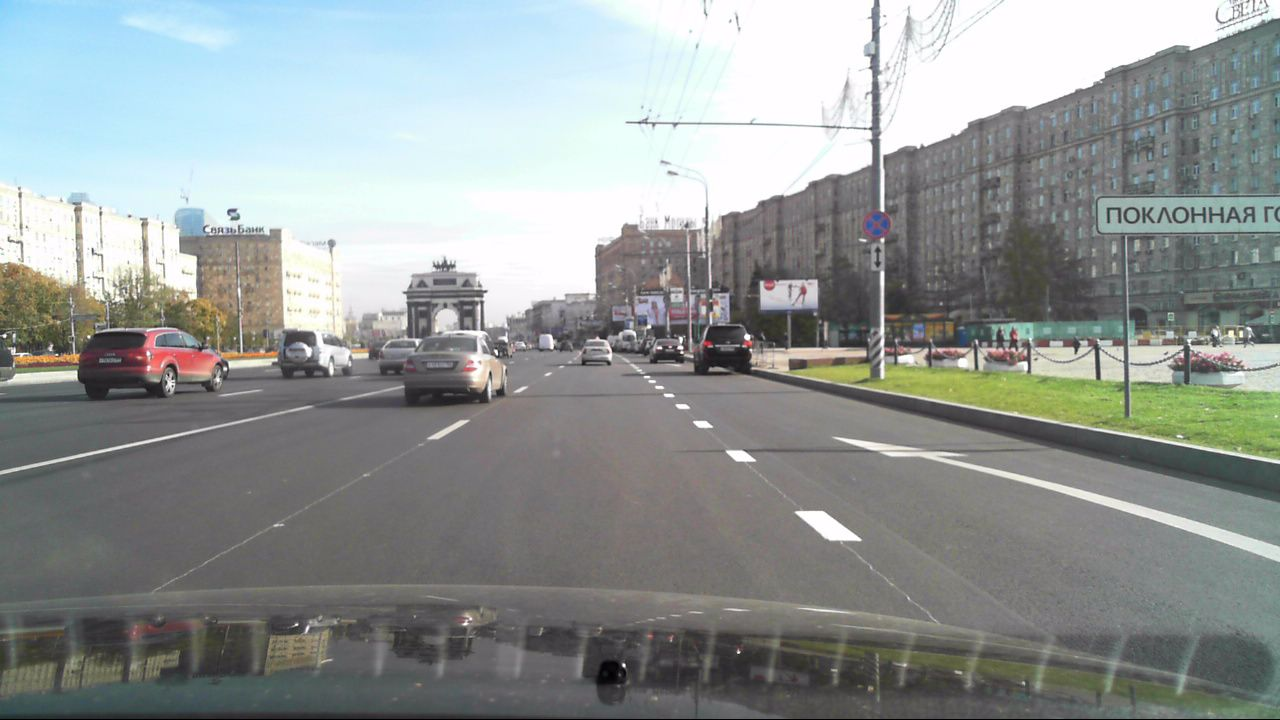No Parking: (861, 211, 891, 239)
